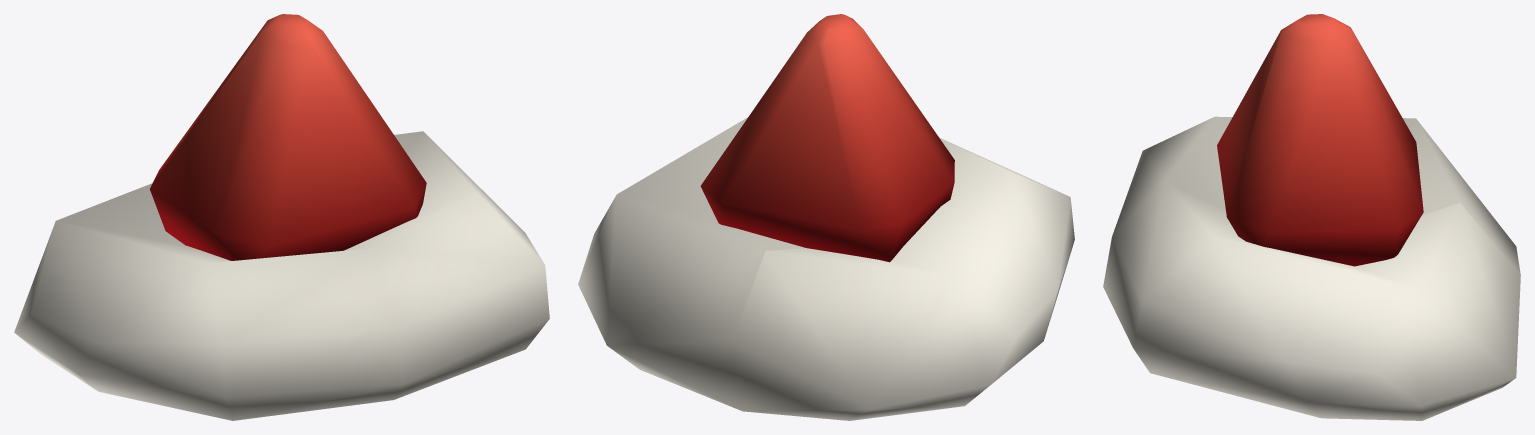
File: Sweets_StrawberryMochi.gltf
The picture shows the model from 3 angles, left to right: view 1: azimuth 30°, elevation 25°; view 2: azimuth 150°, elevation 25°; view 3: azimuth 270°, elevation 25°; orthographic projection. The views are drawn at different scales.
Visible parts, largest first — view 1: Sweets_StrawberryMochi; view 2: Sweets_StrawberryMochi; view 3: Sweets_StrawberryMochi.
Boxes of the visible parts, box(x1,y1,x2,y2) form: Sweets_StrawberryMochi: box(14, 14, 549, 420); Sweets_StrawberryMochi: box(578, 14, 1074, 420); Sweets_StrawberryMochi: box(1103, 14, 1520, 420).
Bounding box in the file's own units: 0.2426 × 0.1791 × 0.2025.
Materials: 1 (1 with a texture image).
